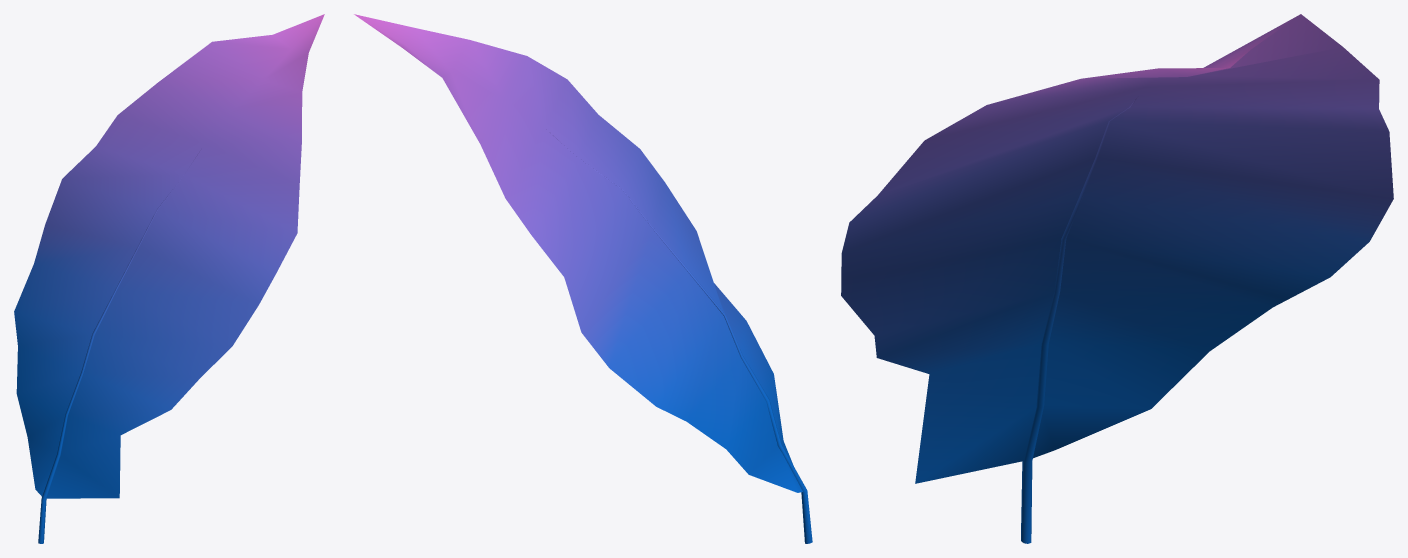
The model's file is Lady_Fern_wdvlditia_Mid_wdvlditia_VarD_LOD0.fbx.
3 views of the same model, side by side, from view 1: azimuth 30°, elevation 25°; view 2: azimuth 150°, elevation 25°; view 3: azimuth 270°, elevation 25° (orthographic). The views are drawn at different scales.
Parts seen in each view (by area): view 1: _6c6y_VarD_LOD2; view 2: _6c6y_VarD_LOD2; view 3: _6c6y_VarD_LOD2.
Part boxes in pixels (<box>): _6c6y_VarD_LOD2: <box>14,14,324,543</box>; _6c6y_VarD_LOD2: <box>354,14,812,543</box>; _6c6y_VarD_LOD2: <box>841,14,1393,543</box>.
Bounding box in the file's own units: 66.12 × 76.12 × 48.2.
